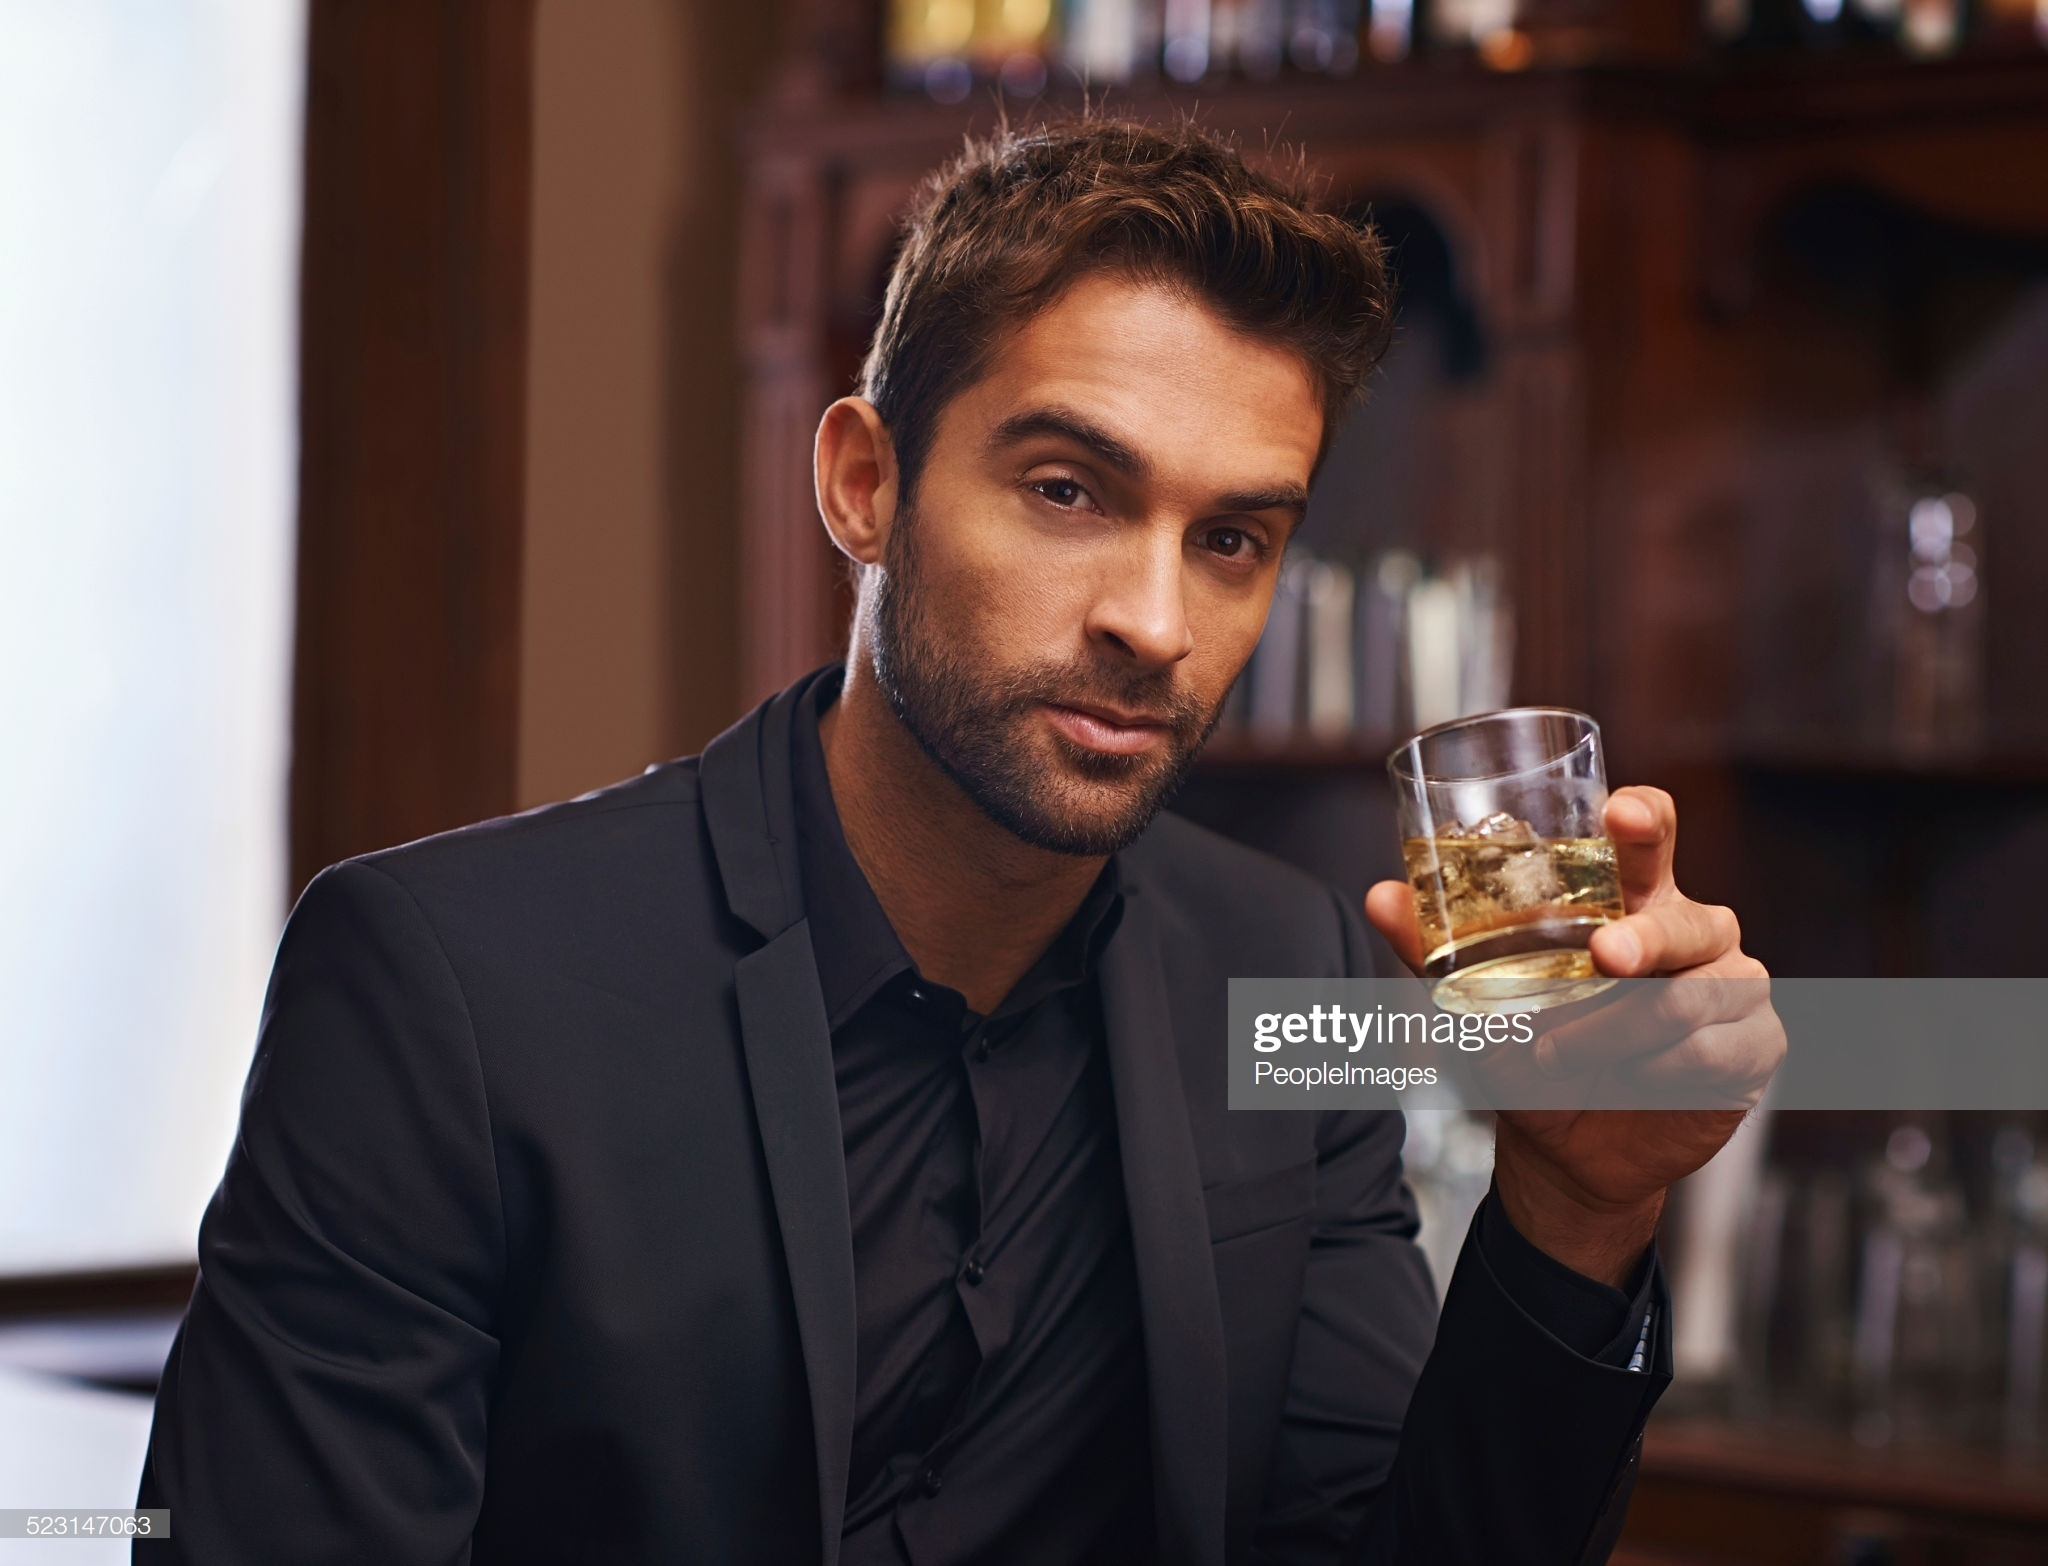whiskey: (1402, 716, 1617, 1003)
